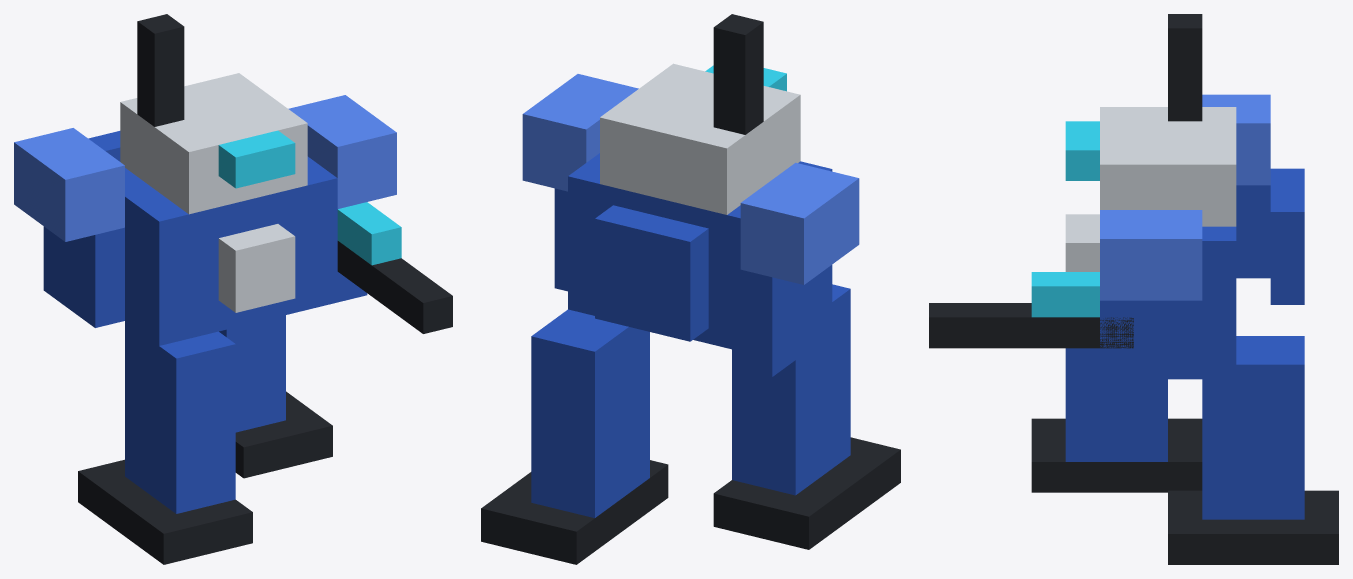
Rendered from mech_light_scout_walk_a.glb.
3 renders of one model, left to right at view 1: azimuth 30°, elevation 25°; view 2: azimuth 150°, elevation 25°; view 3: azimuth 270°, elevation 25°, orthographic. The views are drawn at different scales.
Parts seen in each view (by area): view 1: Torso mesh, Head mesh, Leg L mesh, Arm L mesh, Feet mesh, Arm R mesh, Gun mesh, Leg R mesh, Antenna mesh, Pack mesh; view 2: Leg R mesh, Head mesh, Feet mesh, Arm L mesh, Leg L mesh, Pack mesh, Torso mesh, Arm R mesh, Antenna mesh; view 3: Feet mesh, Leg R mesh, Arm R mesh, Head mesh, Gun mesh, Leg L mesh, Arm L mesh, Torso mesh, Pack mesh, Antenna mesh.
Boxes of the visible parts, box(x1,y1,x2,y2) form: Torso mesh: box(125, 156, 337, 345); Head mesh: box(120, 73, 307, 214); Leg L mesh: box(125, 321, 235, 513); Arm L mesh: box(14, 128, 124, 327); Feet mesh: box(78, 391, 332, 564); Arm R mesh: box(288, 95, 396, 302); Gun mesh: box(337, 202, 452, 333); Leg R mesh: box(219, 315, 285, 432); Antenna mesh: box(137, 14, 184, 126); Pack mesh: box(88, 131, 120, 161); Leg R mesh: box(531, 309, 649, 518); Head mesh: box(600, 63, 800, 214); Feet mesh: box(481, 437, 900, 564); Arm L mesh: box(740, 162, 859, 376); Leg L mesh: box(732, 284, 850, 495); Pack mesh: box(595, 205, 708, 341); Torso mesh: box(568, 153, 832, 351); Arm R mesh: box(522, 74, 638, 291); Antenna mesh: box(713, 14, 763, 134); Feet mesh: box(1031, 418, 1338, 564); Leg R mesh: box(1202, 336, 1304, 519); Arm R mesh: box(1100, 210, 1202, 379); Head mesh: box(1065, 107, 1236, 226); Gun mesh: box(929, 272, 1133, 348); Leg L mesh: box(1065, 348, 1167, 461); Arm L mesh: box(1202, 94, 1270, 278); Torso mesh: box(1065, 214, 1236, 364); Pack mesh: box(1270, 168, 1304, 304); Antenna mesh: box(1168, 14, 1202, 121).
Bounding box in the file's own units: 10 × 15 × 12.
Materials: 1 (1 with a texture image).
